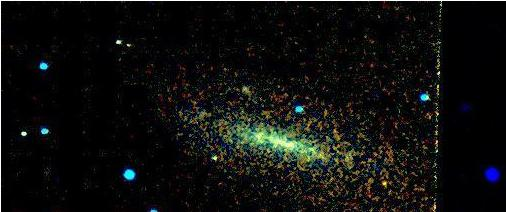star: (367, 163, 397, 193)
